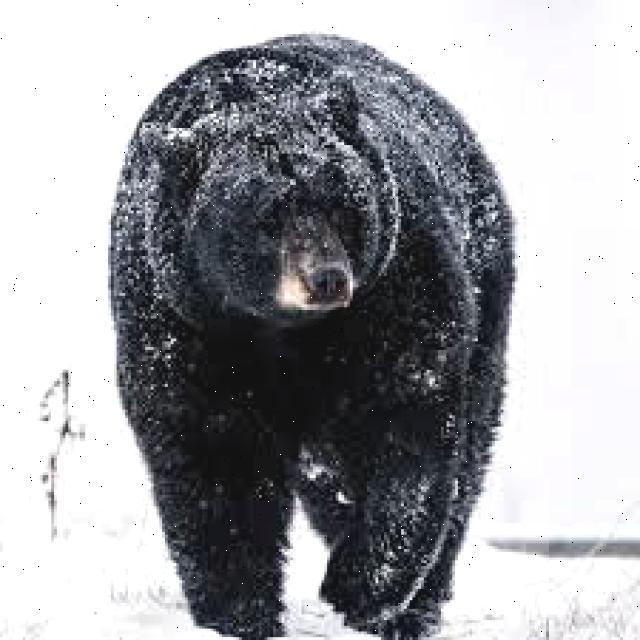bear: (109, 59, 530, 640)
